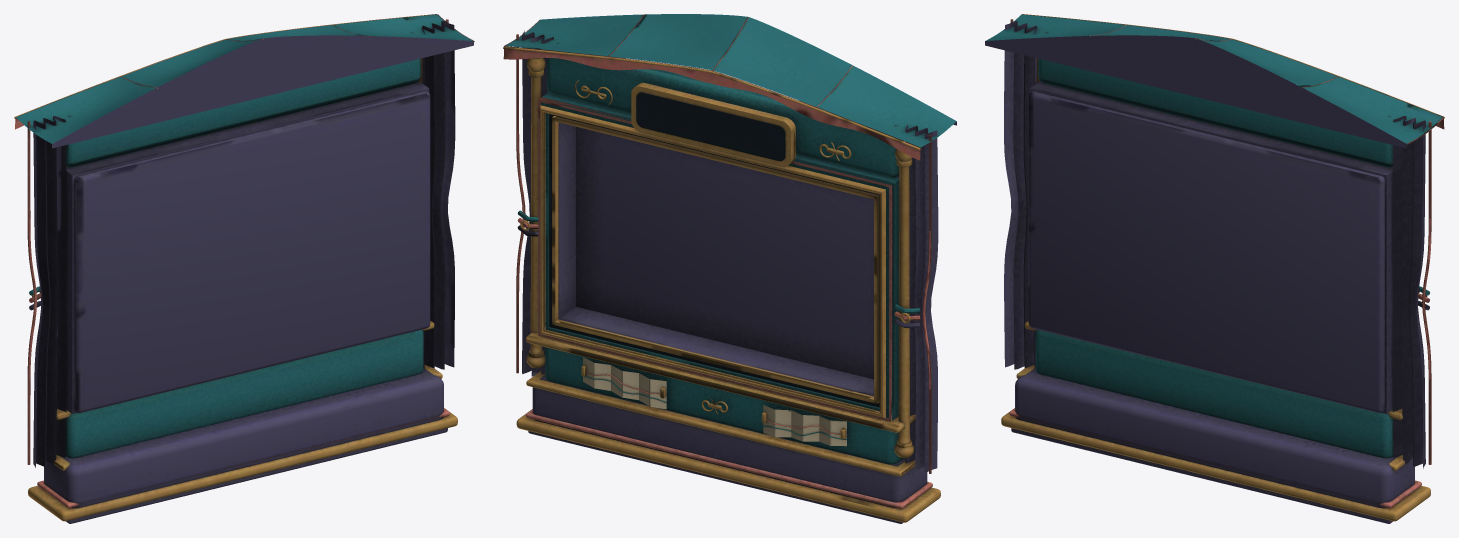
3 views of the same model, side by side, from view 1: azimuth 30°, elevation 25°; view 2: azimuth 150°, elevation 25°; view 3: azimuth 330°, elevation 25° (orthographic).
Parts seen in each view (by area): view 1: Violet_lining, Teal_woven_cloth, Brushed_brass, Coral_woven_binding; view 2: Violet_lining, Teal_woven_cloth, Brushed_brass, Coral_woven_binding, Dark_enamel, Atlas_paper; view 3: Violet_lining, Teal_woven_cloth, Brushed_brass, Coral_woven_binding.
Boxes of the visible parts, <box> form: Violet_lining: <box>29,21,473,523</box>; Teal_woven_cloth: <box>16,14,472,458</box>; Brushed_brass: <box>14,14,457,521</box>; Coral_woven_binding: <box>15,14,474,508</box>; Violet_lining: <box>517,30,956,523</box>; Teal_woven_cloth: <box>505,14,956,464</box>; Brushed_brass: <box>503,46,940,522</box>; Coral_woven_binding: <box>503,14,932,508</box>; Dark_enamel: <box>549,92,879,407</box>; Atlas_paper: <box>583,357,846,446</box>; Violet_lining: <box>985,21,1429,523</box>; Teal_woven_cloth: <box>986,14,1442,458</box>; Brushed_brass: <box>1001,14,1444,521</box>; Coral_woven_binding: <box>1009,14,1444,508</box>.
Bounding box in the file's own units: 8.98 × 9 × 1.42.
Materials: 6 (6 with a texture image).
